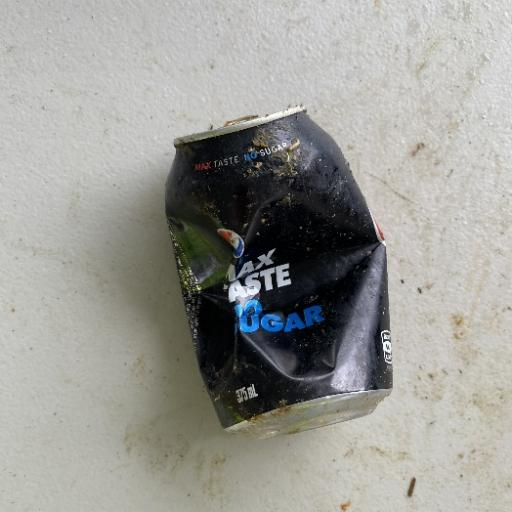Metal: (161, 102, 396, 440)
